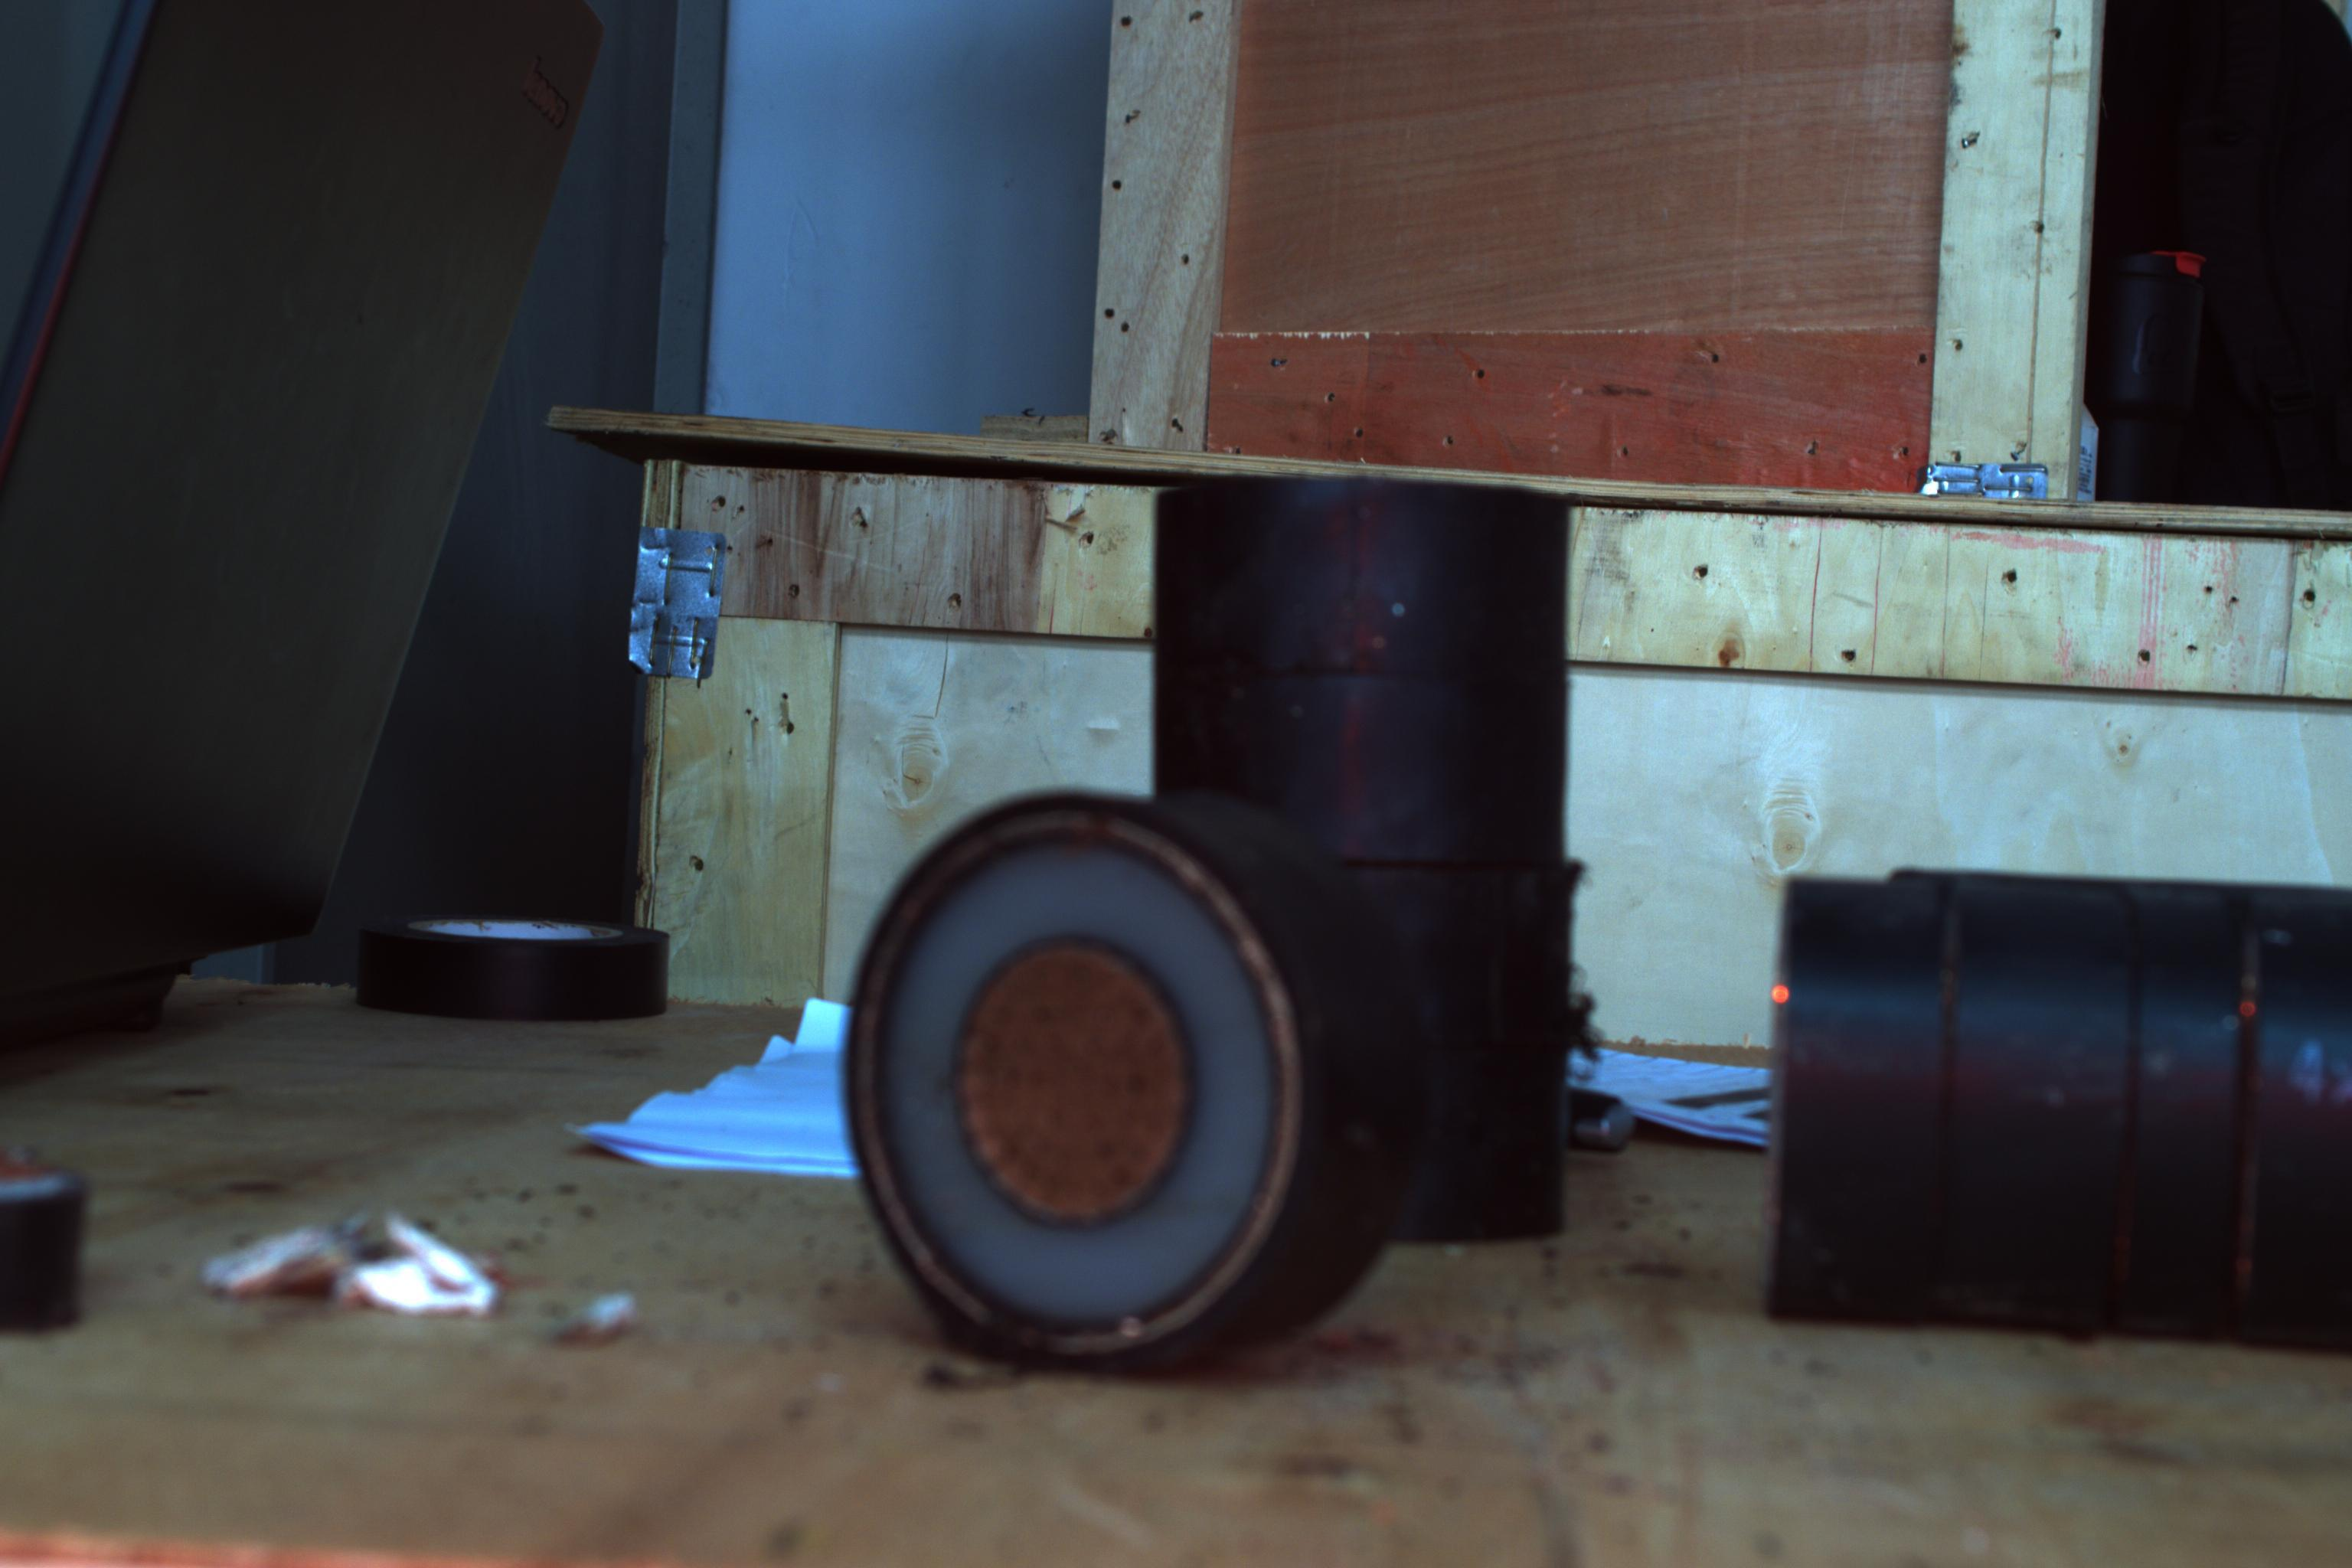YJV_26_35kV_1x630: (838, 791, 1316, 1363)
